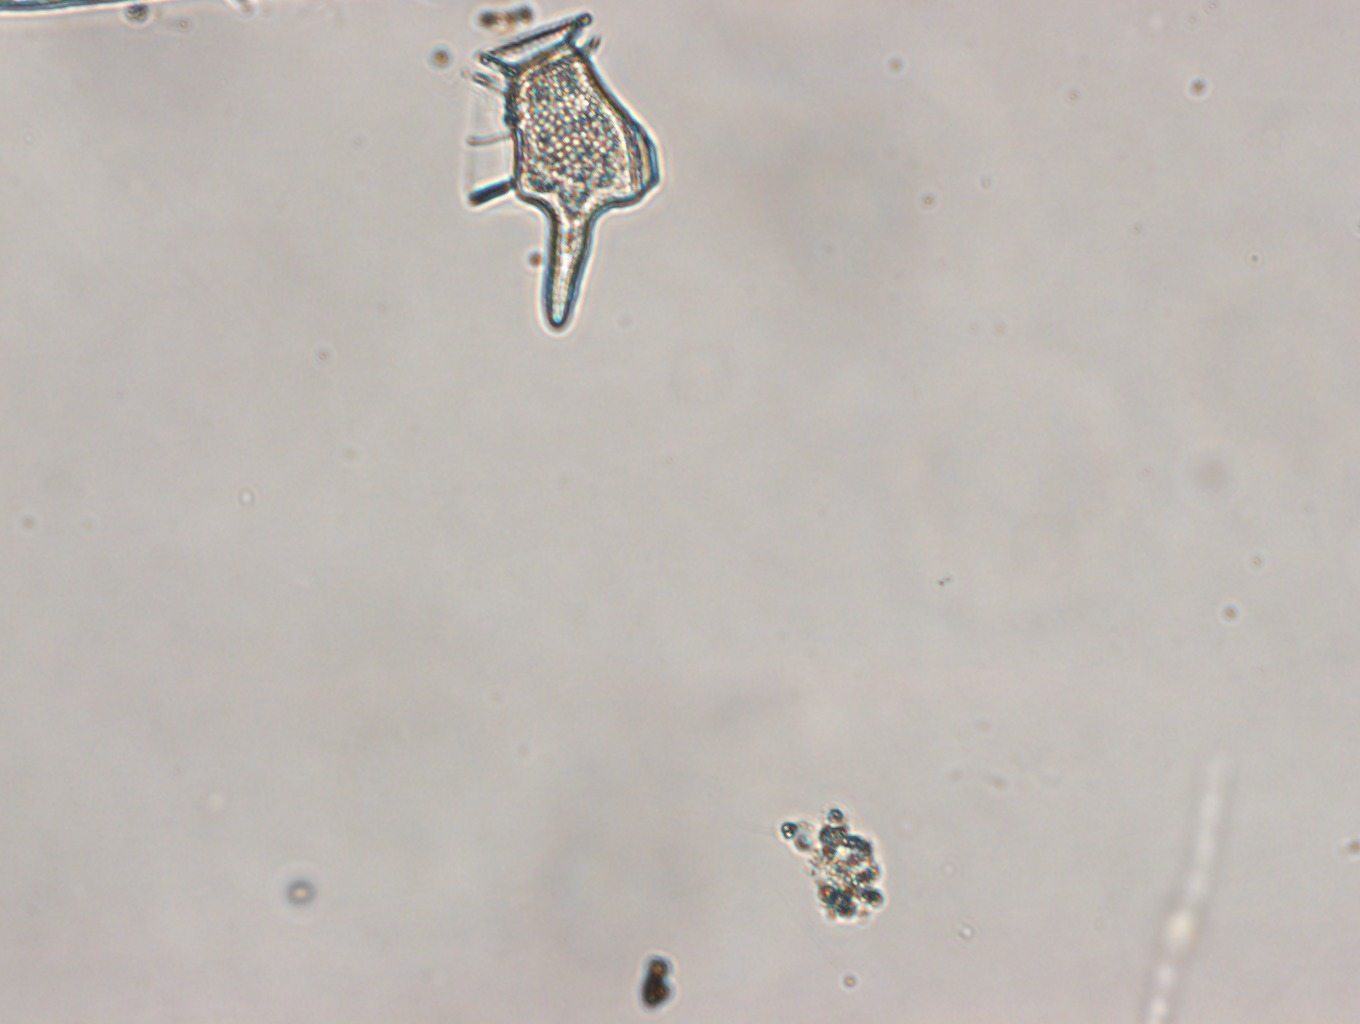dinophysis caudata: (457, 11, 662, 340)
